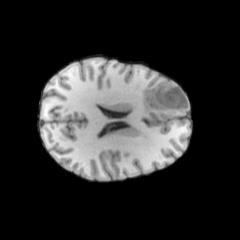glioma: (144, 83, 188, 117)
